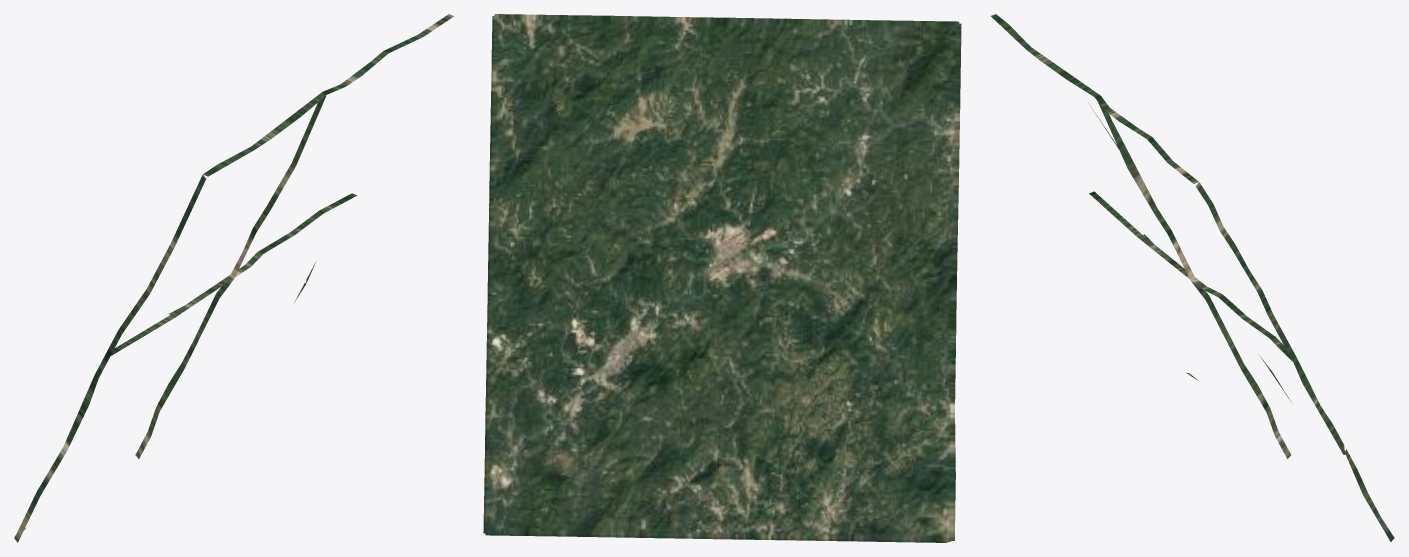
3 renders of one model, left to right at view 1: azimuth 30°, elevation 25°; view 2: azimuth 150°, elevation 25°; view 3: azimuth 270°, elevation 25°, orthographic. The views are drawn at different scales.
Size of the model in its own units: 79403 by 71092 by 64179.
1 material, 1 textured.
